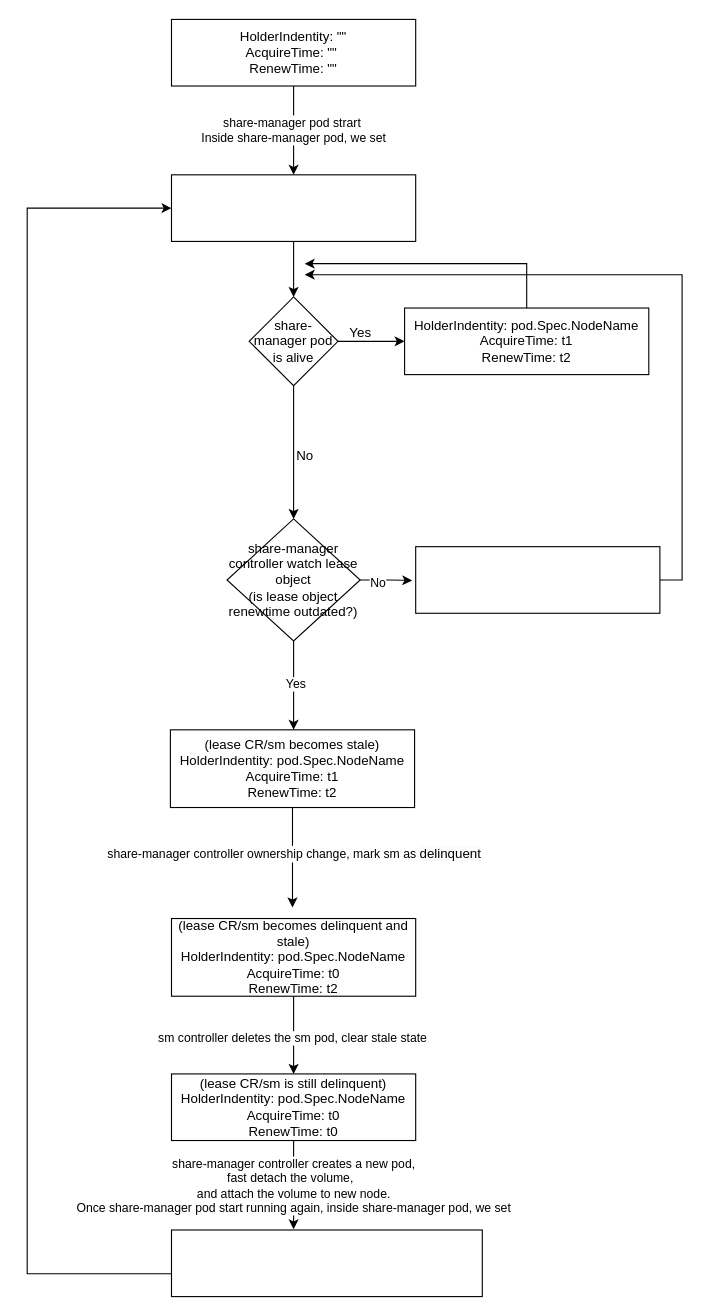
Image size: 710x1316. Some labels were removed from this diagram. The shapes that lost their labels are listed below. From the top down, each one's centre as x and y in pixels, then its label:
the point at 293,207: HolderIndentity: pod.Spec.NodeName AcquireTime: t1 RenewTime: t1
the point at 537,579: (We do nothing) HolderIndentity: pod.Spec.NodeName AcquireTime: t1 RenewTime: t2
the point at 326,1263: HolderIndentity: pod.Spec.NewNodeName AcquireTime: t3 RenewTime: t3
